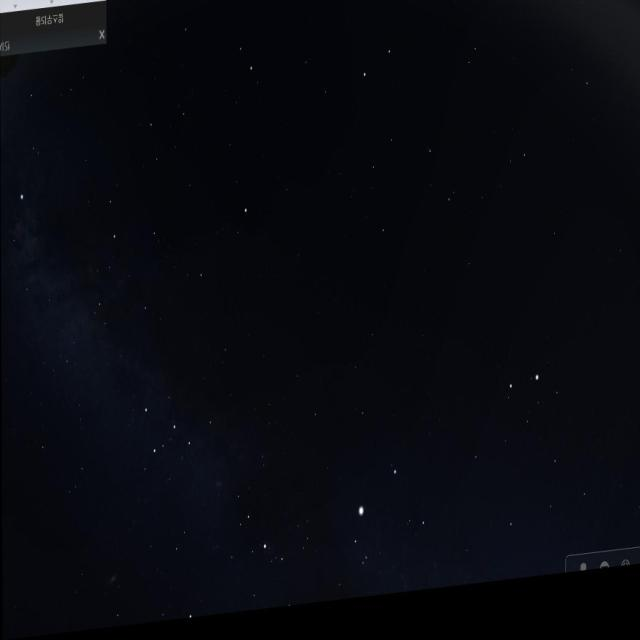cassiopeia: (137, 378, 218, 477)
